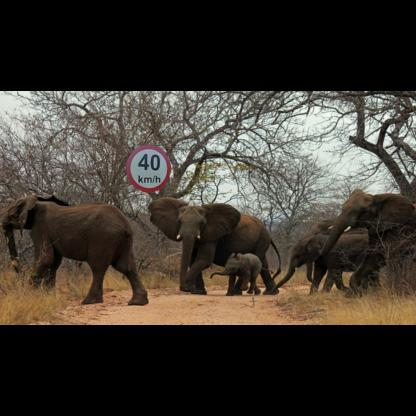R-19: (126, 144, 171, 192)
